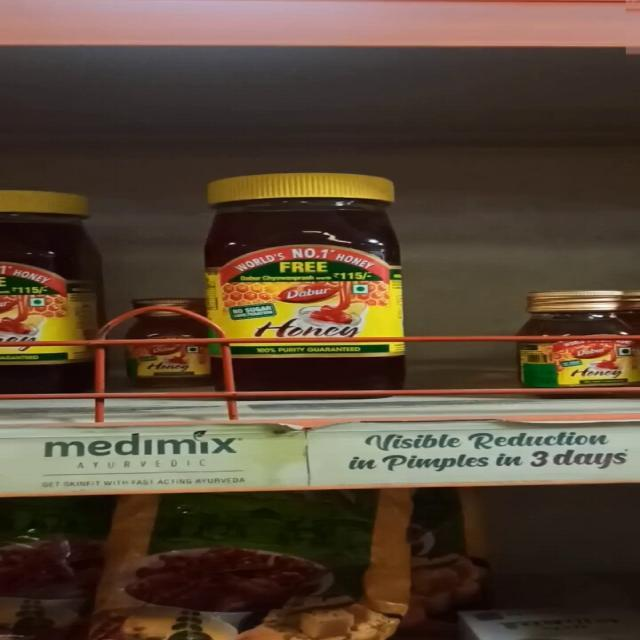Dabur Honey: (204, 172, 415, 402), (521, 284, 640, 398)
